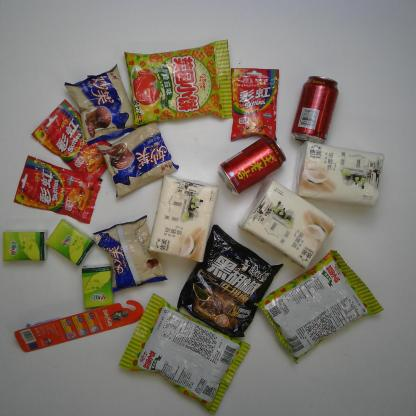Candy: (30, 100, 114, 190), (13, 155, 102, 224), (229, 65, 282, 142)
Dessert: (60, 64, 140, 146), (99, 121, 184, 198), (92, 214, 167, 294)
Drink: (216, 134, 287, 194), (293, 74, 339, 144)
Instant Noodles: (177, 224, 284, 339)
Personal Hygiene: (13, 299, 146, 351)
Puffed Food: (118, 294, 250, 415), (253, 249, 383, 364), (122, 39, 234, 126)
Tissue: (236, 178, 336, 270), (148, 172, 218, 265), (290, 140, 384, 207), (47, 220, 96, 266), (2, 231, 47, 263), (82, 264, 113, 310)
